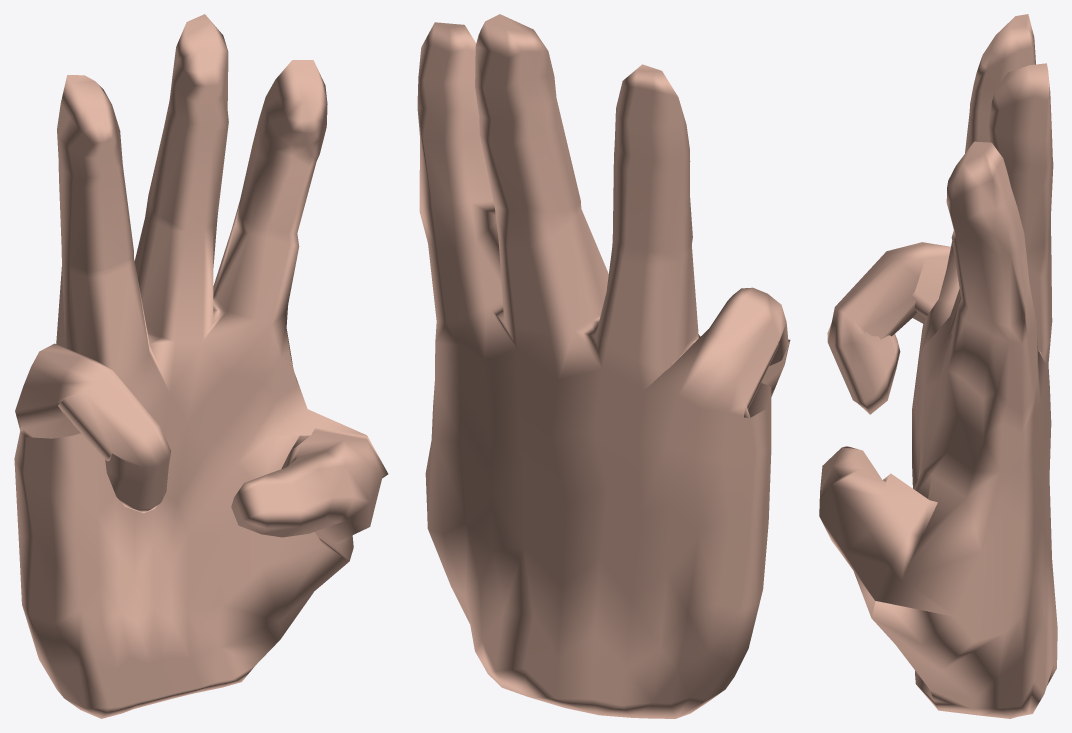
Rendered from MAO_W.obj.
The picture shows the model from 3 angles, left to right: view 1: azimuth 30°, elevation 25°; view 2: azimuth 150°, elevation 25°; view 3: azimuth 270°, elevation 25°; orthographic projection. The views are drawn at different scales.
Visible parts, largest first — view 1: mao_dir:mao_dir; view 2: mao_dir:mao_dir; view 3: mao_dir:mao_dir.
Part boxes in pixels (box(x1,y1,x2,y2)): mao_dir:mao_dir: box(14, 14, 388, 718); mao_dir:mao_dir: box(417, 14, 790, 718); mao_dir:mao_dir: box(819, 14, 1057, 718).
Size of the model in its own units: 135 by 241 by 80.04.
